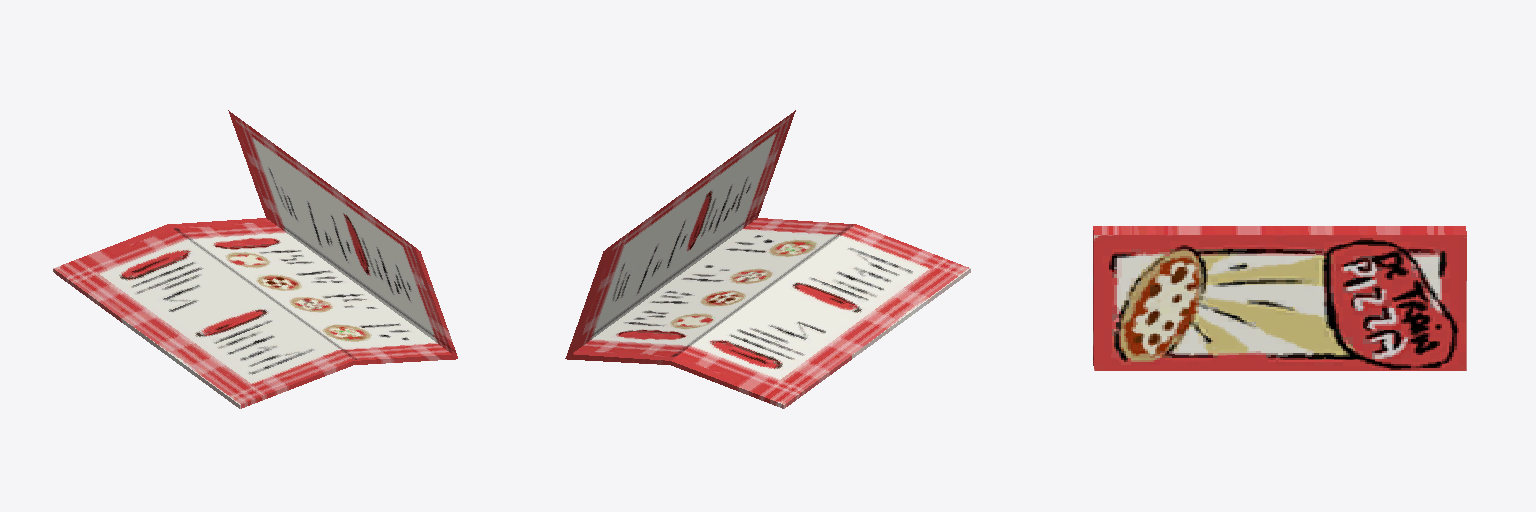
3 renders of one model, left to right at view 1: azimuth 30°, elevation 25°; view 2: azimuth 150°, elevation 25°; view 3: azimuth 270°, elevation 25°, orthographic.
Visible parts, largest first — view 1: Quest_PizzaMenu; view 2: Quest_PizzaMenu; view 3: Quest_PizzaMenu.
Boxes of the visible parts, x1=… form: Quest_PizzaMenu: x1=53, y1=110, x2=457, y2=408; Quest_PizzaMenu: x1=565, y1=110, x2=970, y2=408; Quest_PizzaMenu: x1=1093, y1=226, x2=1466, y2=370.
Size of the model in its own units: 0.5608 by 0.3026 by 0.8275.
Materials: 1 (1 with a texture image).